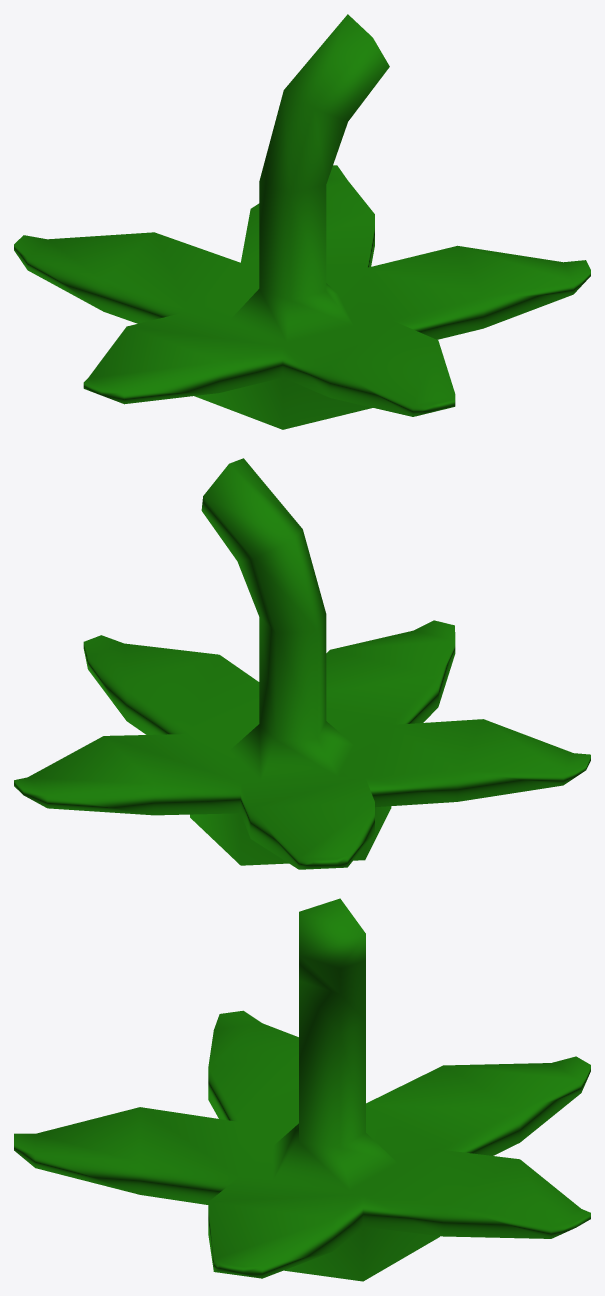
File: tomatostem.obj
3 views of the same model, one above another, from view 1: azimuth 30°, elevation 25°; view 2: azimuth 150°, elevation 25°; view 3: azimuth 270°, elevation 25° (orthographic). The views are drawn at different scales.
Visible parts, largest first — view 1: Cylinder; view 2: Cylinder; view 3: Cylinder.
Boxes of the visible parts, box(x1,y1,x2,y2) form: Cylinder: box(14, 14, 590, 429); Cylinder: box(14, 458, 590, 869); Cylinder: box(14, 898, 590, 1281).
Size of the model in its own units: 0.6884 by 0.4617 by 0.6547.
